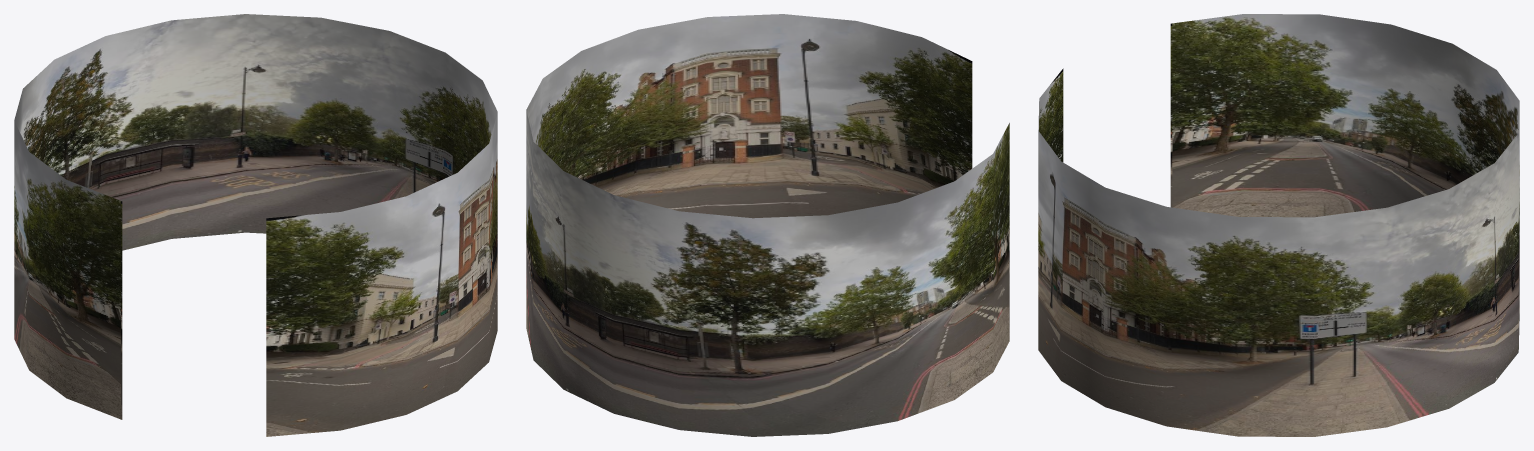
Rendered from bg-pano.fbx.
The picture shows the model from 3 angles, left to right: view 1: azimuth 30°, elevation 25°; view 2: azimuth 150°, elevation 25°; view 3: azimuth 270°, elevation 25°; orthographic projection.
Visible parts, largest first — view 1: bg-pano; view 2: bg-pano; view 3: bg-pano.
Part boxes in pixels (box(x1,y1,x2,y2)): bg-pano: box(14, 14, 497, 436); bg-pano: box(526, 14, 1009, 436); bg-pano: box(1038, 14, 1519, 436).
Bounding box in the file's own units: 2365 × 1192 × 2365.
Materials: 1 (1 with a texture image).
